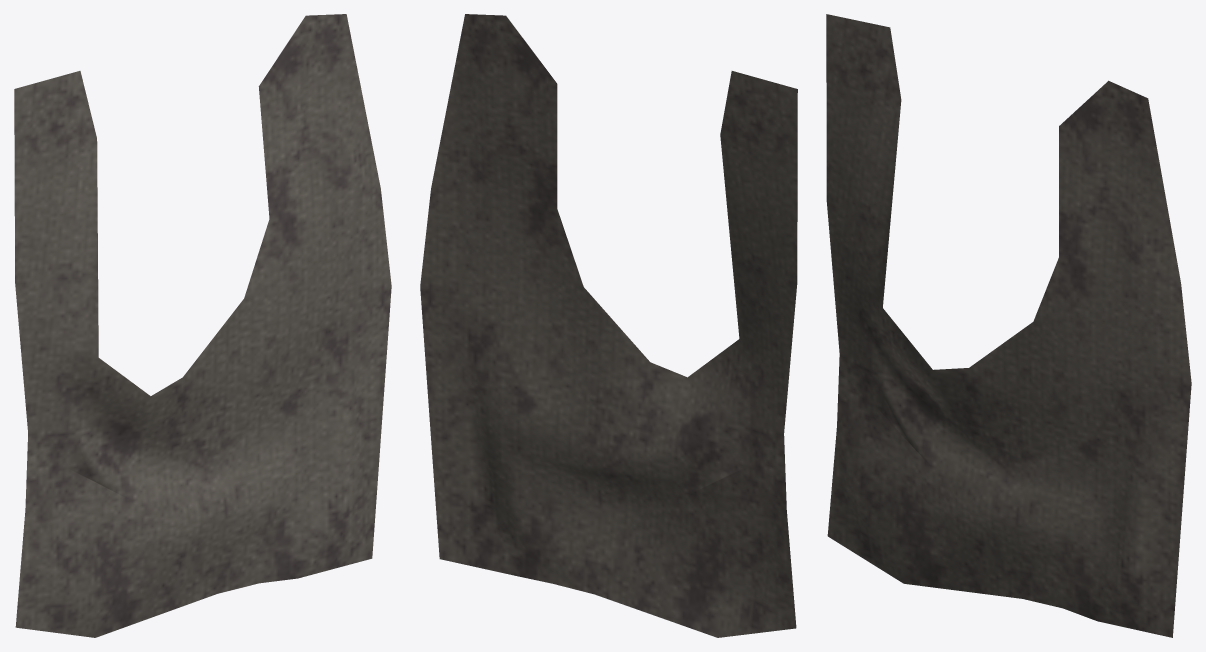
The model's file is old cloth.FBX.
3 renders of one model, left to right at view 1: azimuth 30°, elevation 25°; view 2: azimuth 150°, elevation 25°; view 3: azimuth 330°, elevation 25°, orthographic. The views are drawn at different scales.
Parts seen in each view (by area): view 1: Group47830; view 2: Group47830; view 3: Group47830.
Part boxes in pixels (left/top/right/bottom): Group47830: left=14, top=14, right=391, bottom=637; Group47830: left=420, top=14, right=797, bottom=637; Group47830: left=826, top=14, right=1191, bottom=637.
Size of the model in its own units: 317 by 458 by 19.97.
1 material, 1 textured.
